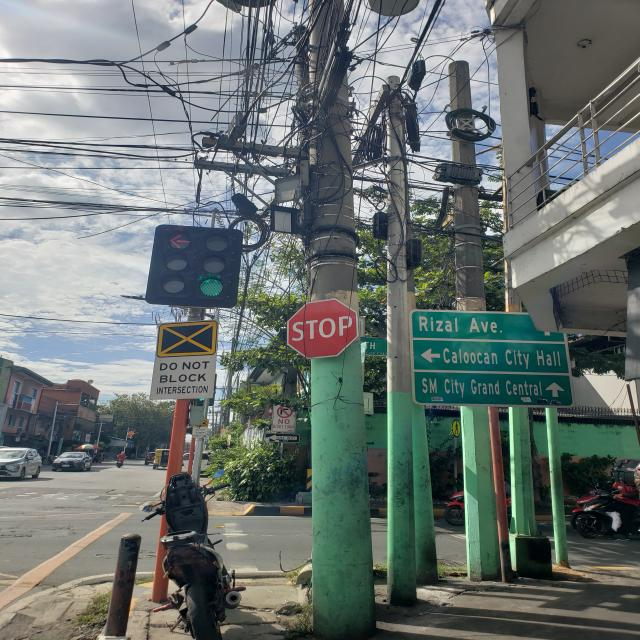stop-sign: (286, 298, 359, 359)
